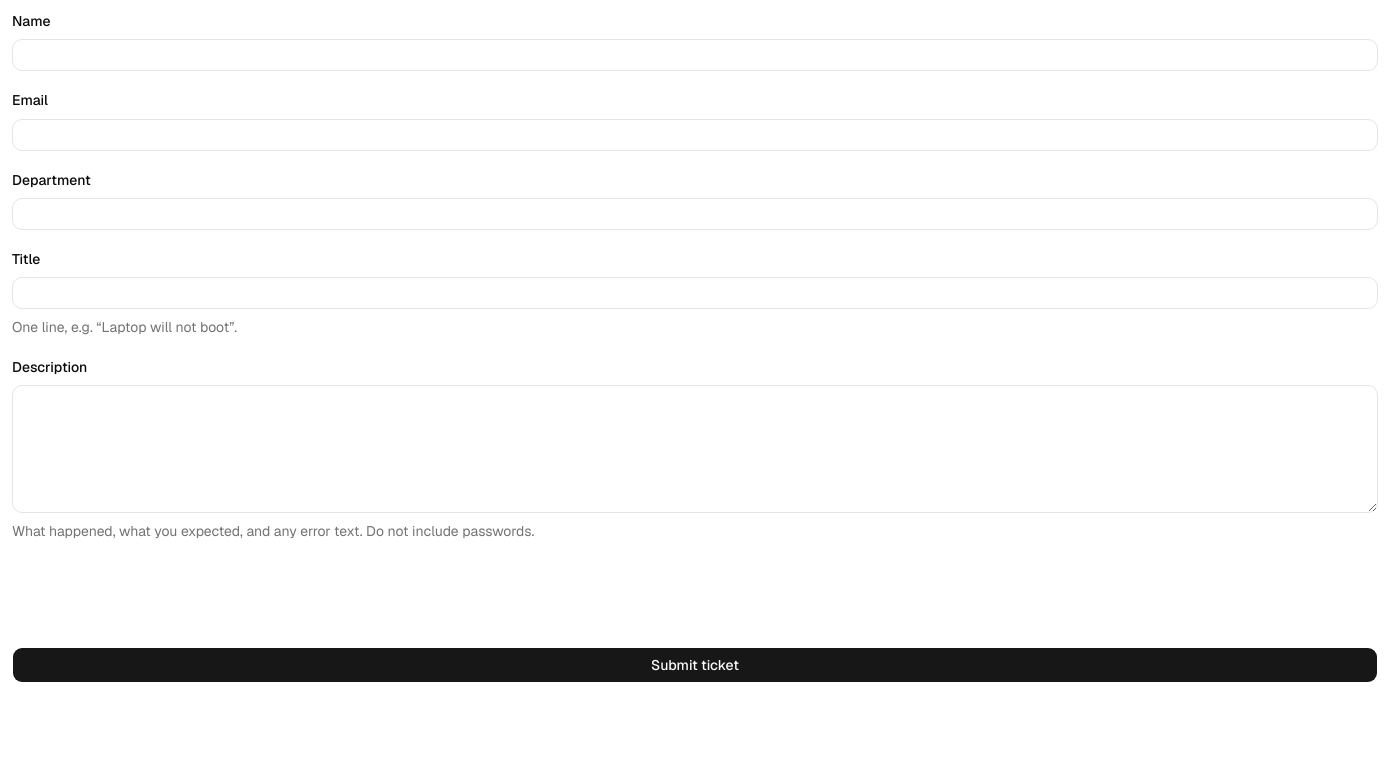
Test: TicketForm › posts the ticket with the Turnstile token and shows the ticket ID
Type "Jo Tester" into the field labelled "Name" at (695, 55), box [12, 39, 1378, 71]
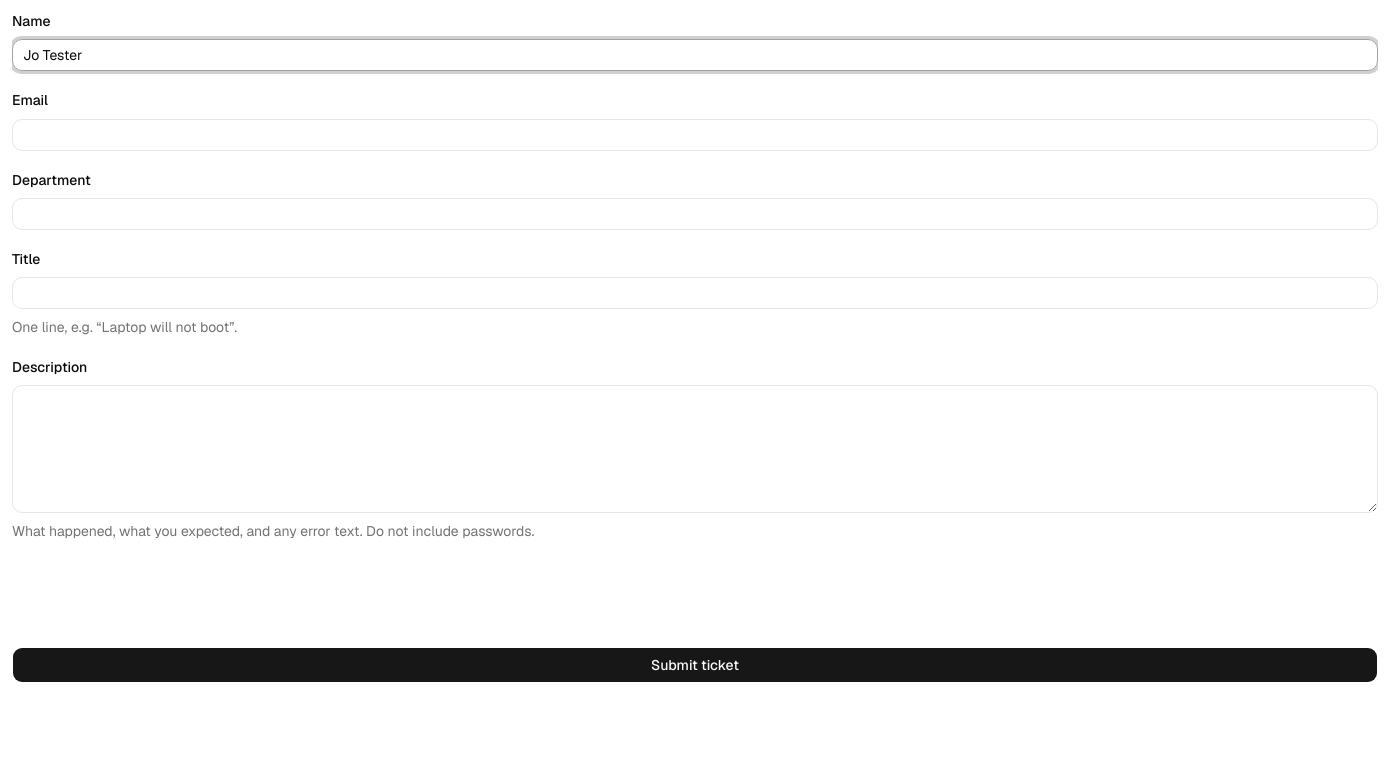
Type "jo@example.com" into the field labelled "Email" at (695, 134), box [12, 118, 1378, 150]
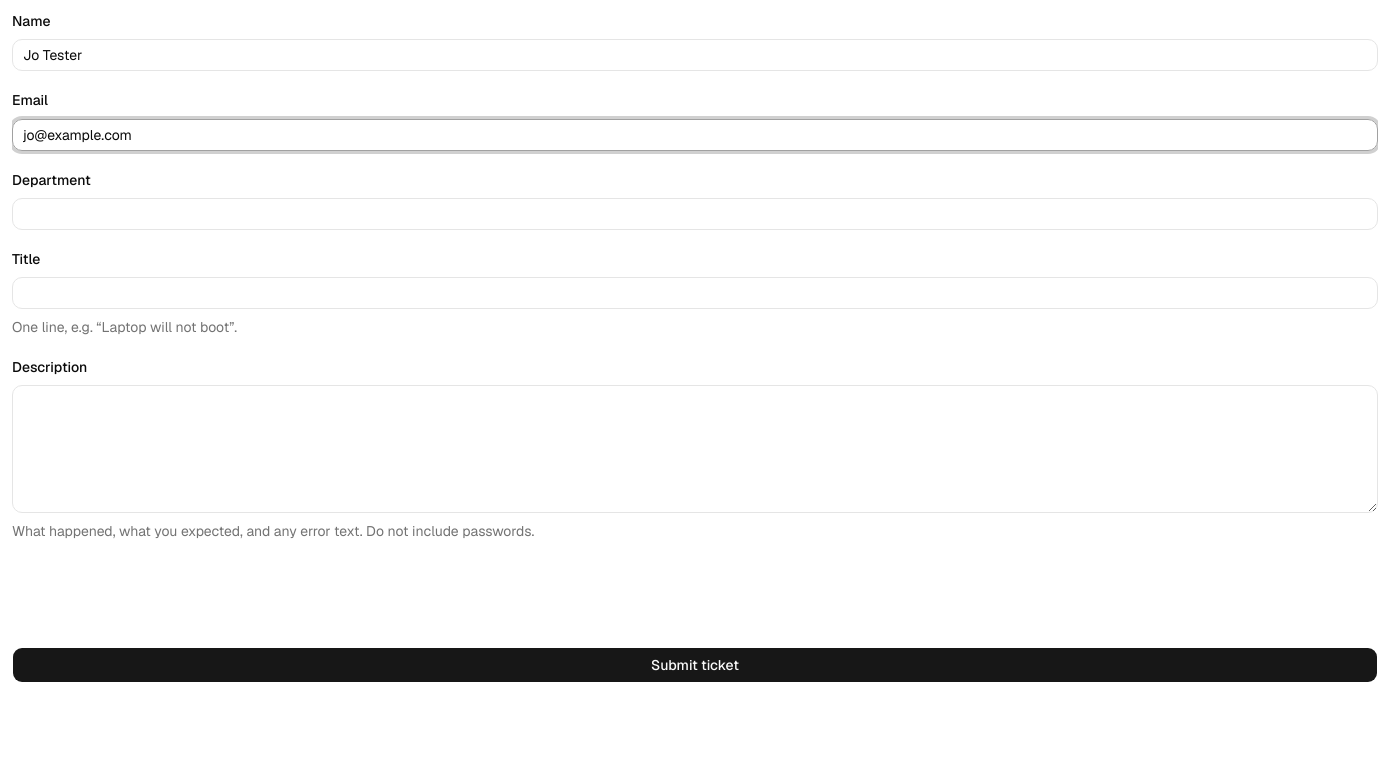
Type "Finance" into the field labelled "Department" at (695, 214), box [12, 198, 1378, 230]
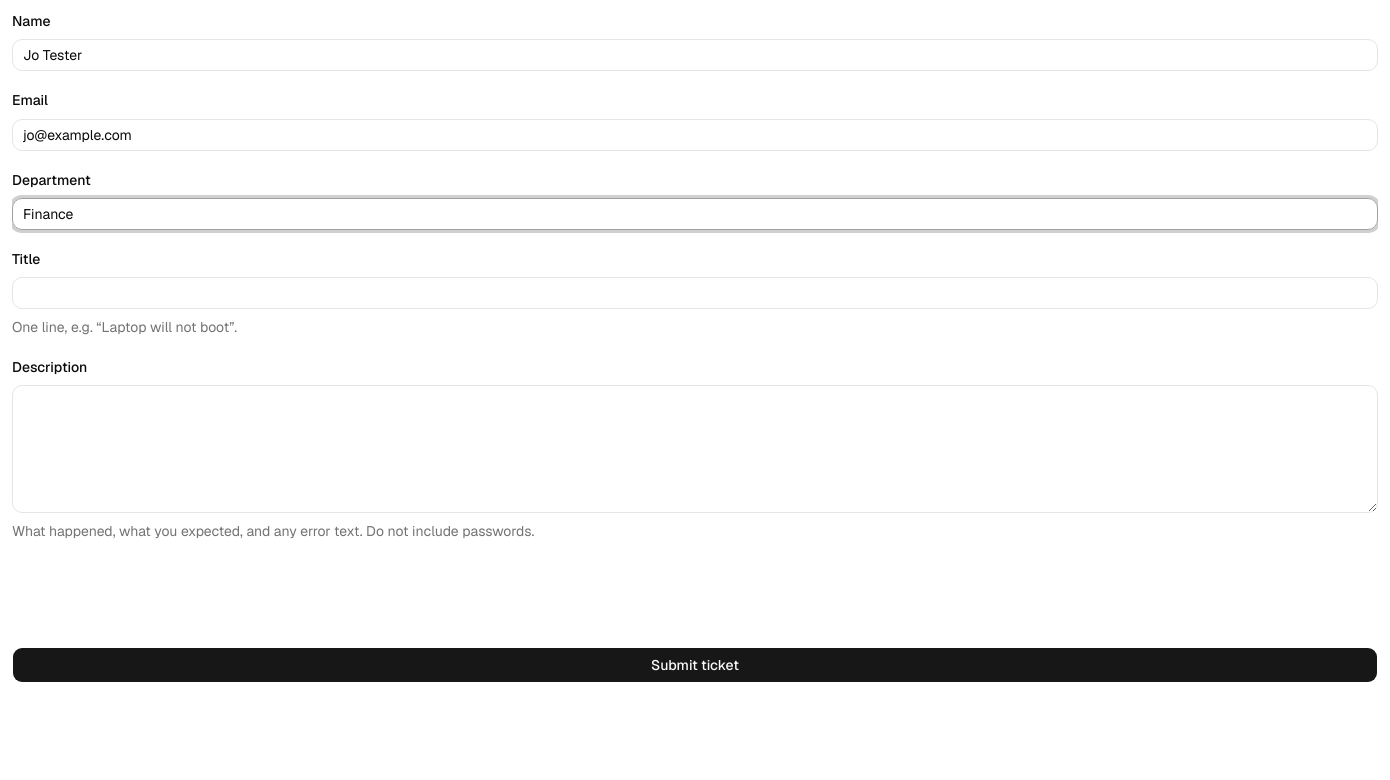
Type "Laptop will not boot" into the field labelled "Title" at (695, 293), box [12, 277, 1378, 309]
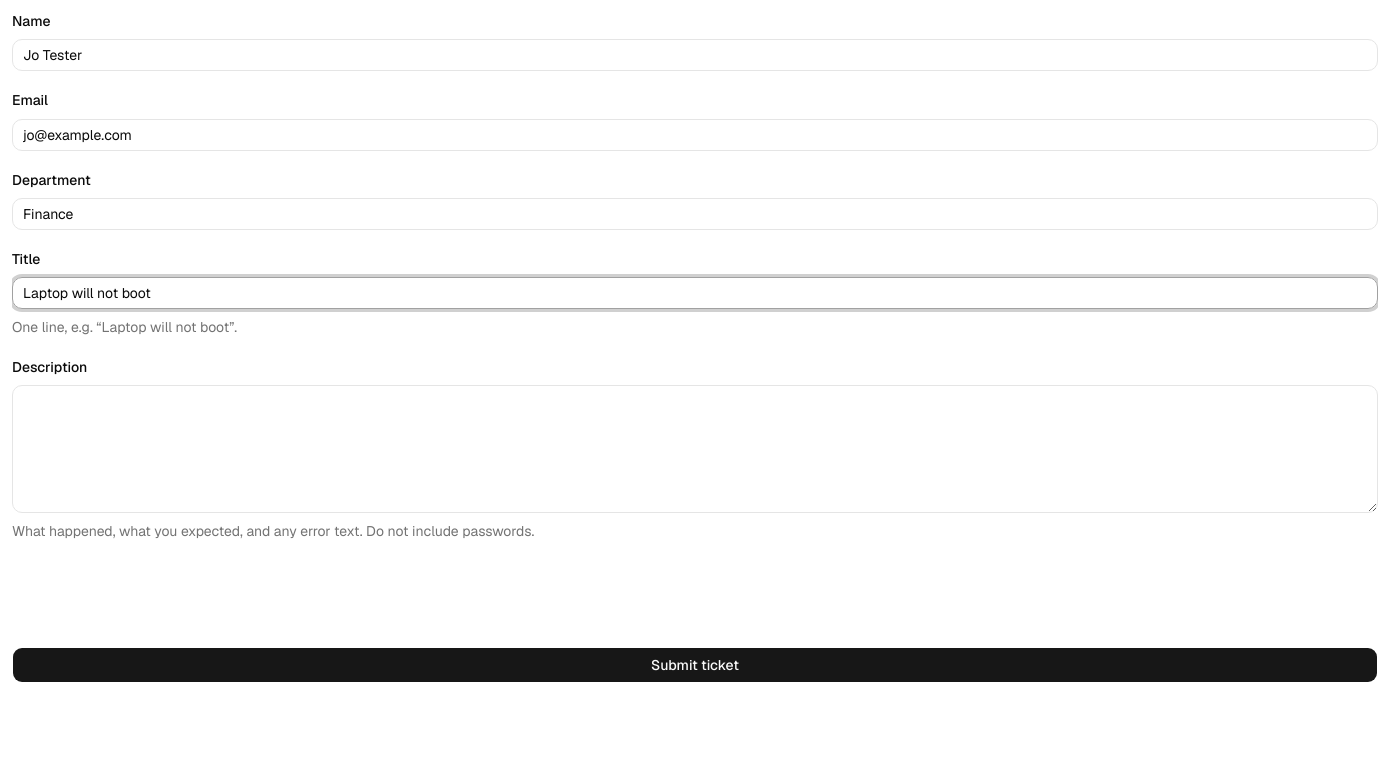
Type "A black screen after the logo." into the text box labelled "Description" at (695, 449), box [12, 385, 1378, 513]
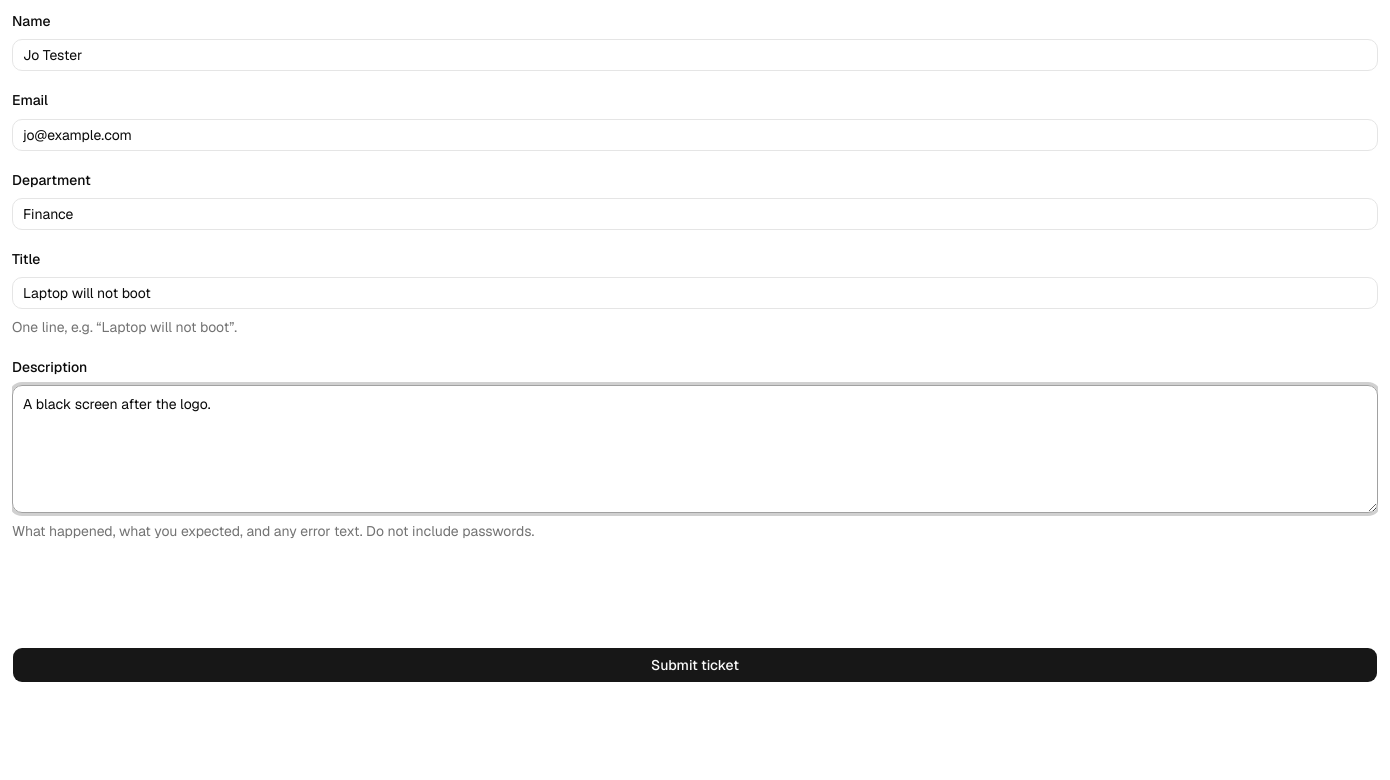
Click the button "Submit ticket" at (695, 665), box [12, 647, 1378, 683]
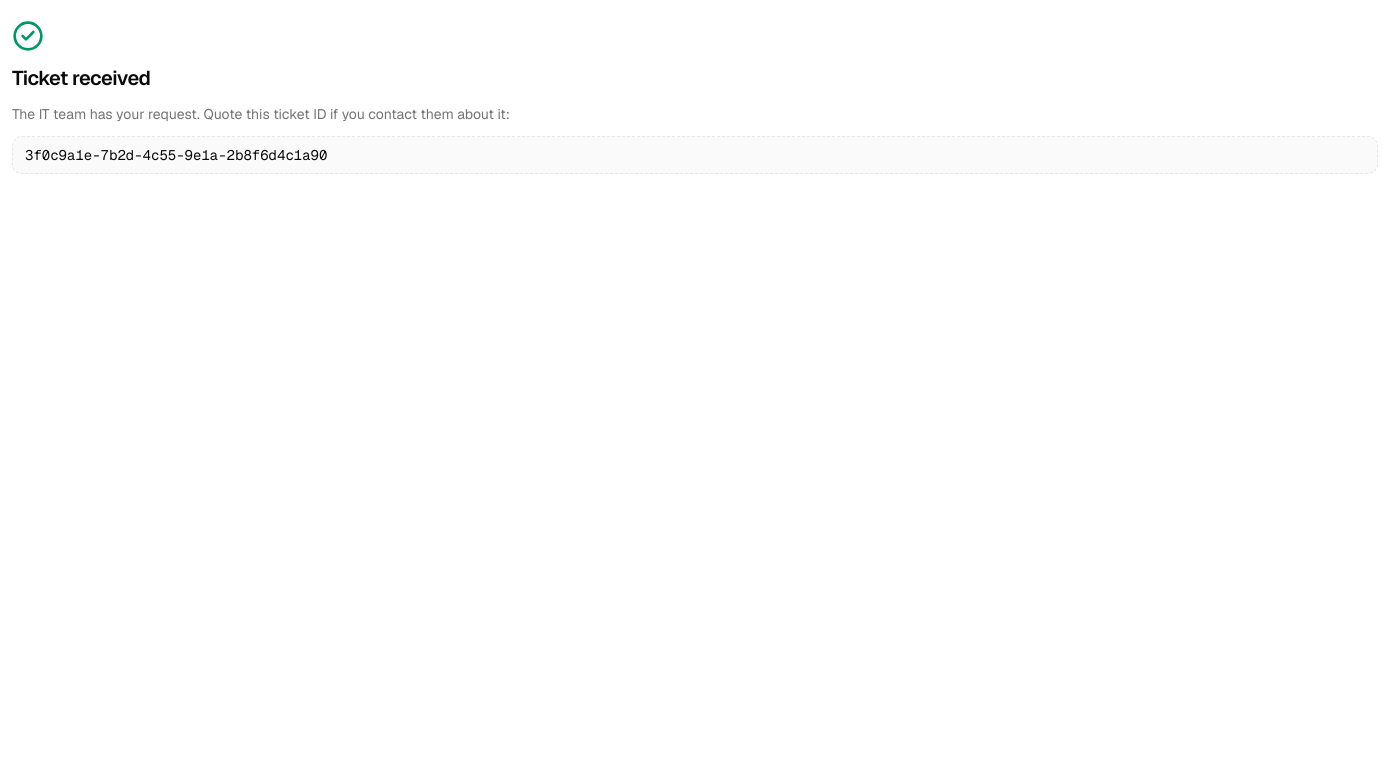
Expected: the heading "Ticket received" is shown, [12, 64, 150, 92]
Expected: the text "3f0c9a1e-7b2d-4c55-9e1a-2b8f6d4c1a90" is shown, [12, 136, 1378, 174]
